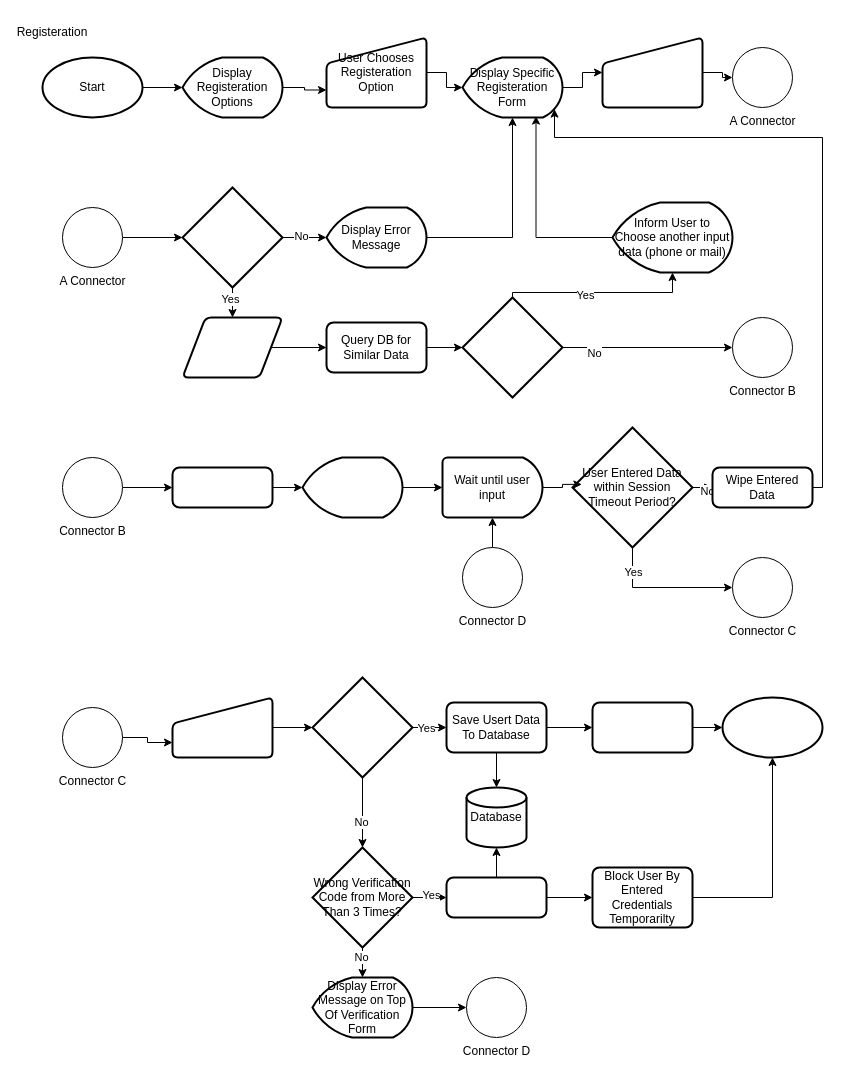
The diagram is 848 pixels wide and 1075 high, and some of its shapes have lost their labels. Each missing label, with the centre of its shape:
"Audit Attempt" belongs at point (496, 897).
"Authorize User" belongs at point (642, 727).
"End" belongs at point (772, 727).
"Hold Entered Data" belongs at point (232, 347).
"Inform User About Verification Code and Show Form" belongs at point (352, 487).
"Same Identifying Data Exist?" belongs at point (512, 347).
"Send Verification Mail or message" belongs at point (222, 487).
"User Entered Correct Verification Code?" belongs at point (362, 727).
"User Enters Registeration Data" belongs at point (652, 72).
"User Enters Verification Code" belongs at point (222, 727).
"Valid Data Format?" belongs at point (232, 237).
